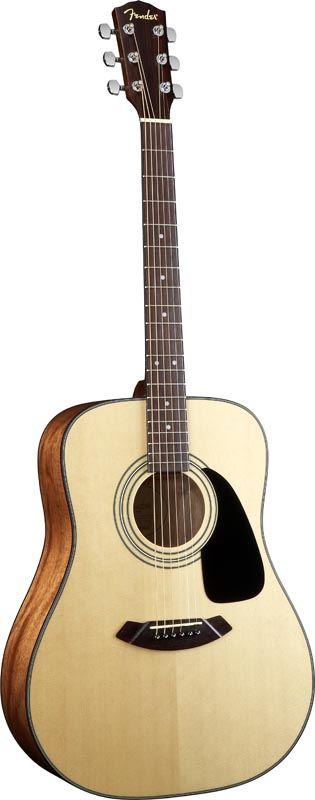guitar: (1, 1, 314, 796)
